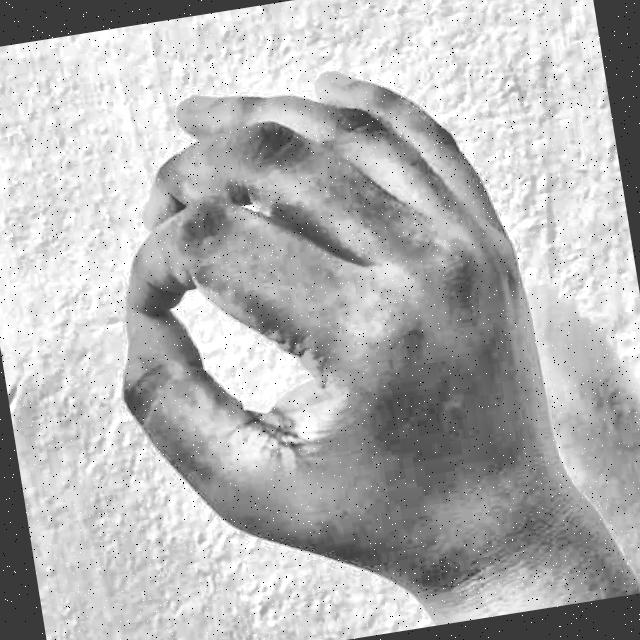Yo: (40, 16, 631, 640)
